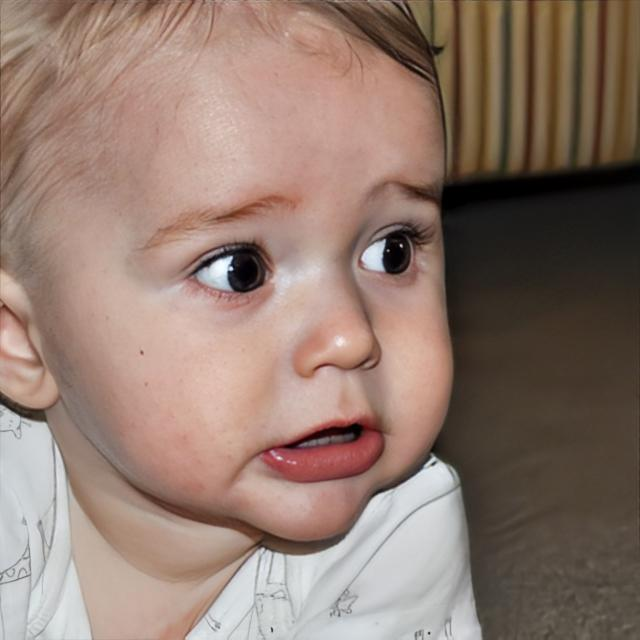fear: (57, 0, 458, 548)
